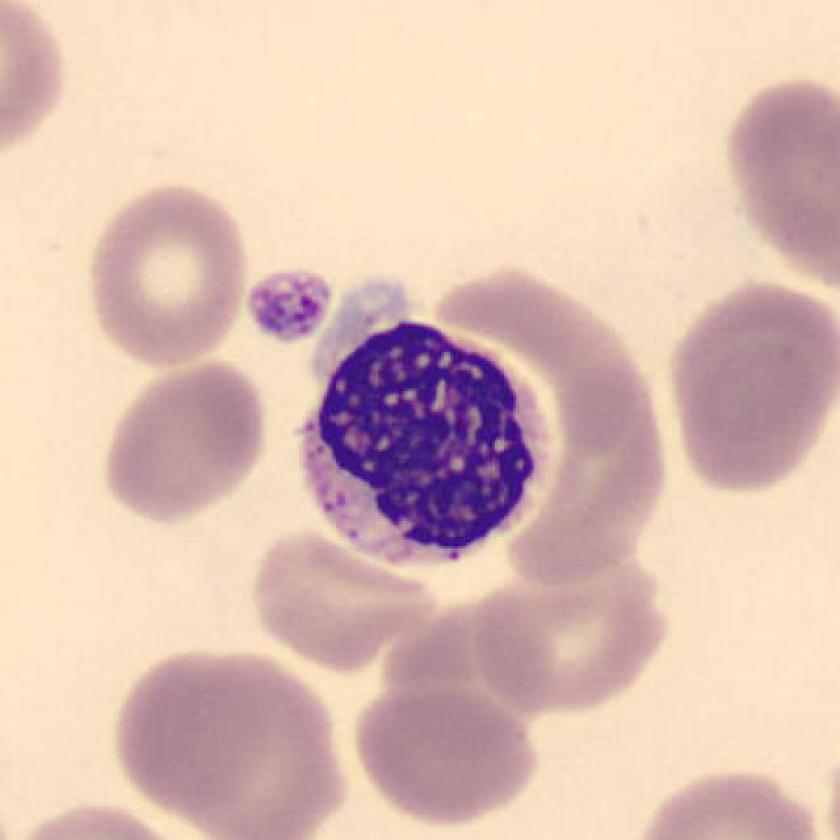neutrophil: (302, 318, 556, 574)
